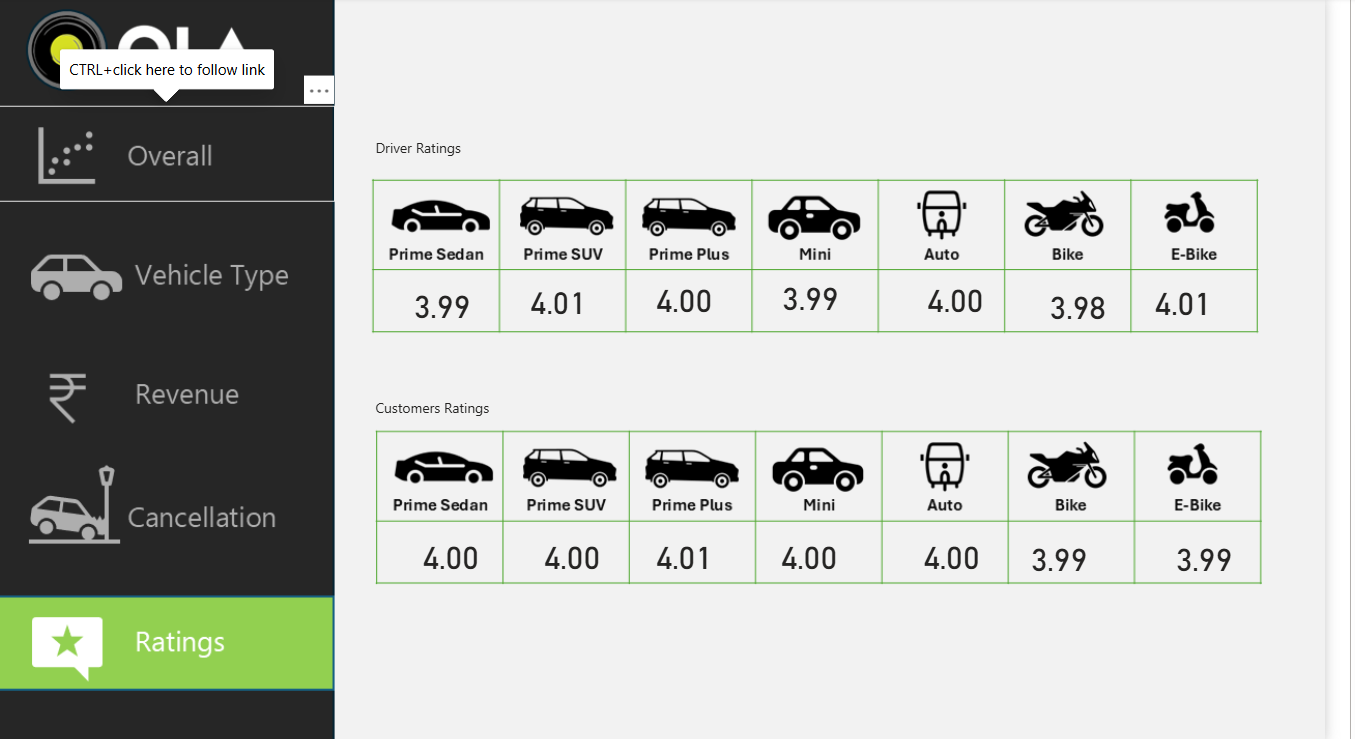

The dashboard page shown, as its layout file describes it:
{"tool":"powerbi","page":{"name":"Ratings","canvas":[1280,720],"ordinal":4},"visuals":[{"type":"actionButton","box":[0,223.2,324.5,92.9],"z":0},{"type":"actionButton","box":[0,104.4,324,93.7],"z":1000},{"type":"actionButton","box":[0,337.8,324.5,92.9],"z":2000},{"type":"actionButton","box":[0,450,324.5,92.9],"z":3000},{"type":"card","fields":{"Values":["Avg(Bookings-100000-Rows (1).Driver_Ratings)"]},"box":[358.6,254.5,138.8,84.8],"z":4000},{"type":"card","fields":{"Values":["Avg(Bookings-100000-Rows (1).Driver_Ratings)"]},"box":[499.5,265.4,7.8,187.3],"z":5000},{"type":"card","fields":{"Values":["Avg(Bookings-100000-Rows (1).Driver_Ratings)"]},"box":[470.4,246.7,138.8,92.5],"z":6000},{"type":"card","fields":{"Values":["Avg(Bookings-100000-Rows (1).Driver_Ratings)"]},"box":[609.2,269.9,104.1,42.4],"z":7000},{"type":"card","fields":{"Values":["Avg(Bookings-100000-Rows (1).Driver_Ratings)"]},"box":[713,247,140.4,84.2],"z":8000},{"type":"card","fields":{"Values":["Avg(Bookings-100000-Rows (1).Driver_Ratings)"]},"box":[853.3,249.8,140.4,84.2],"z":9000},{"type":"card","fields":{"Values":["Avg(Bookings-100000-Rows (1).Driver_Ratings)"]},"box":[971.2,255.4,140.4,84.2],"z":10000},{"type":"card","fields":{"Values":["Avg(Bookings-100000-Rows (1).Driver_Ratings)"]},"box":[1072.3,252.6,140.4,84.2],"z":11000},{"type":"textbox","box":[358.3,131.5,112.2,36.2],"z":12000},{"type":"textbox","box":[358.3,382.4,181,32.6],"z":13000},{"type":"card","fields":{"Values":["Avg(Bookings-100000-Rows (1).Customer_Rating)"]},"box":[366.3,497.3,138.8,84.8],"z":14000},{"type":"card","fields":{"Values":["Avg(Bookings-100000-Rows (1).Customer_Rating)"]},"box":[496.8,496.8,112.3,84.2],"z":15000},{"type":"card","fields":{"Values":["Avg(Bookings-100000-Rows (1).Customer_Rating)"]},"box":[609.1,496.8,103.9,84.2],"z":16000},{"type":"card","fields":{"Values":["Avg(Bookings-100000-Rows (1).Customer_Rating)"]},"box":[729.8,496.8,103.9,84.2],"z":17000},{"type":"card","fields":{"Values":["Avg(Bookings-100000-Rows (1).Customer_Rating)"]},"box":[867.4,496.8,103.9,84.2],"z":18000},{"type":"card","fields":{"Values":["Avg(Bookings-100000-Rows (1).Customer_Rating)"]},"box":[971.2,499.6,103.9,84.2],"z":19000},{"type":"card","fields":{"Values":["Avg(Bookings-100000-Rows (1).Customer_Rating)"]},"box":[1111.6,499.6,103.9,84.2],"z":20000}]}

Visuals, with their boxes on the page's 1280x720 design canvas (x1, y1, x2, y2). These are canvas units, not pixel positions in the 1355x739 screenshot, which may show the page scaled, cropped or inside an application window:
actionButton: bbox(0, 223, 324, 316)
actionButton: bbox(0, 104, 324, 198)
actionButton: bbox(0, 338, 324, 431)
actionButton: bbox(0, 450, 324, 543)
card - Avg(Bookings-100000-Rows (1).Driver_Ratings): bbox(359, 254, 497, 339)
card - Avg(Bookings-100000-Rows (1).Driver_Ratings): bbox(500, 265, 507, 453)
card - Avg(Bookings-100000-Rows (1).Driver_Ratings): bbox(470, 247, 609, 339)
card - Avg(Bookings-100000-Rows (1).Driver_Ratings): bbox(609, 270, 713, 312)
card - Avg(Bookings-100000-Rows (1).Driver_Ratings): bbox(713, 247, 853, 331)
card - Avg(Bookings-100000-Rows (1).Driver_Ratings): bbox(853, 250, 994, 334)
card - Avg(Bookings-100000-Rows (1).Driver_Ratings): bbox(971, 255, 1112, 340)
card - Avg(Bookings-100000-Rows (1).Driver_Ratings): bbox(1072, 253, 1213, 337)
textbox: bbox(358, 132, 470, 168)
textbox: bbox(358, 382, 539, 415)
card - Avg(Bookings-100000-Rows (1).Customer_Rating): bbox(366, 497, 505, 582)
card - Avg(Bookings-100000-Rows (1).Customer_Rating): bbox(497, 497, 609, 581)
card - Avg(Bookings-100000-Rows (1).Customer_Rating): bbox(609, 497, 713, 581)
card - Avg(Bookings-100000-Rows (1).Customer_Rating): bbox(730, 497, 834, 581)
card - Avg(Bookings-100000-Rows (1).Customer_Rating): bbox(867, 497, 971, 581)
card - Avg(Bookings-100000-Rows (1).Customer_Rating): bbox(971, 500, 1075, 584)
card - Avg(Bookings-100000-Rows (1).Customer_Rating): bbox(1112, 500, 1216, 584)
